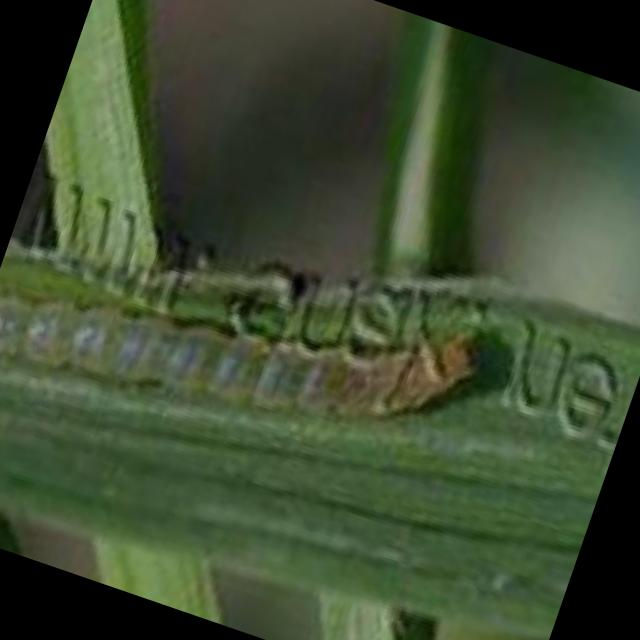leaf-folder: (0, 178, 495, 503)
